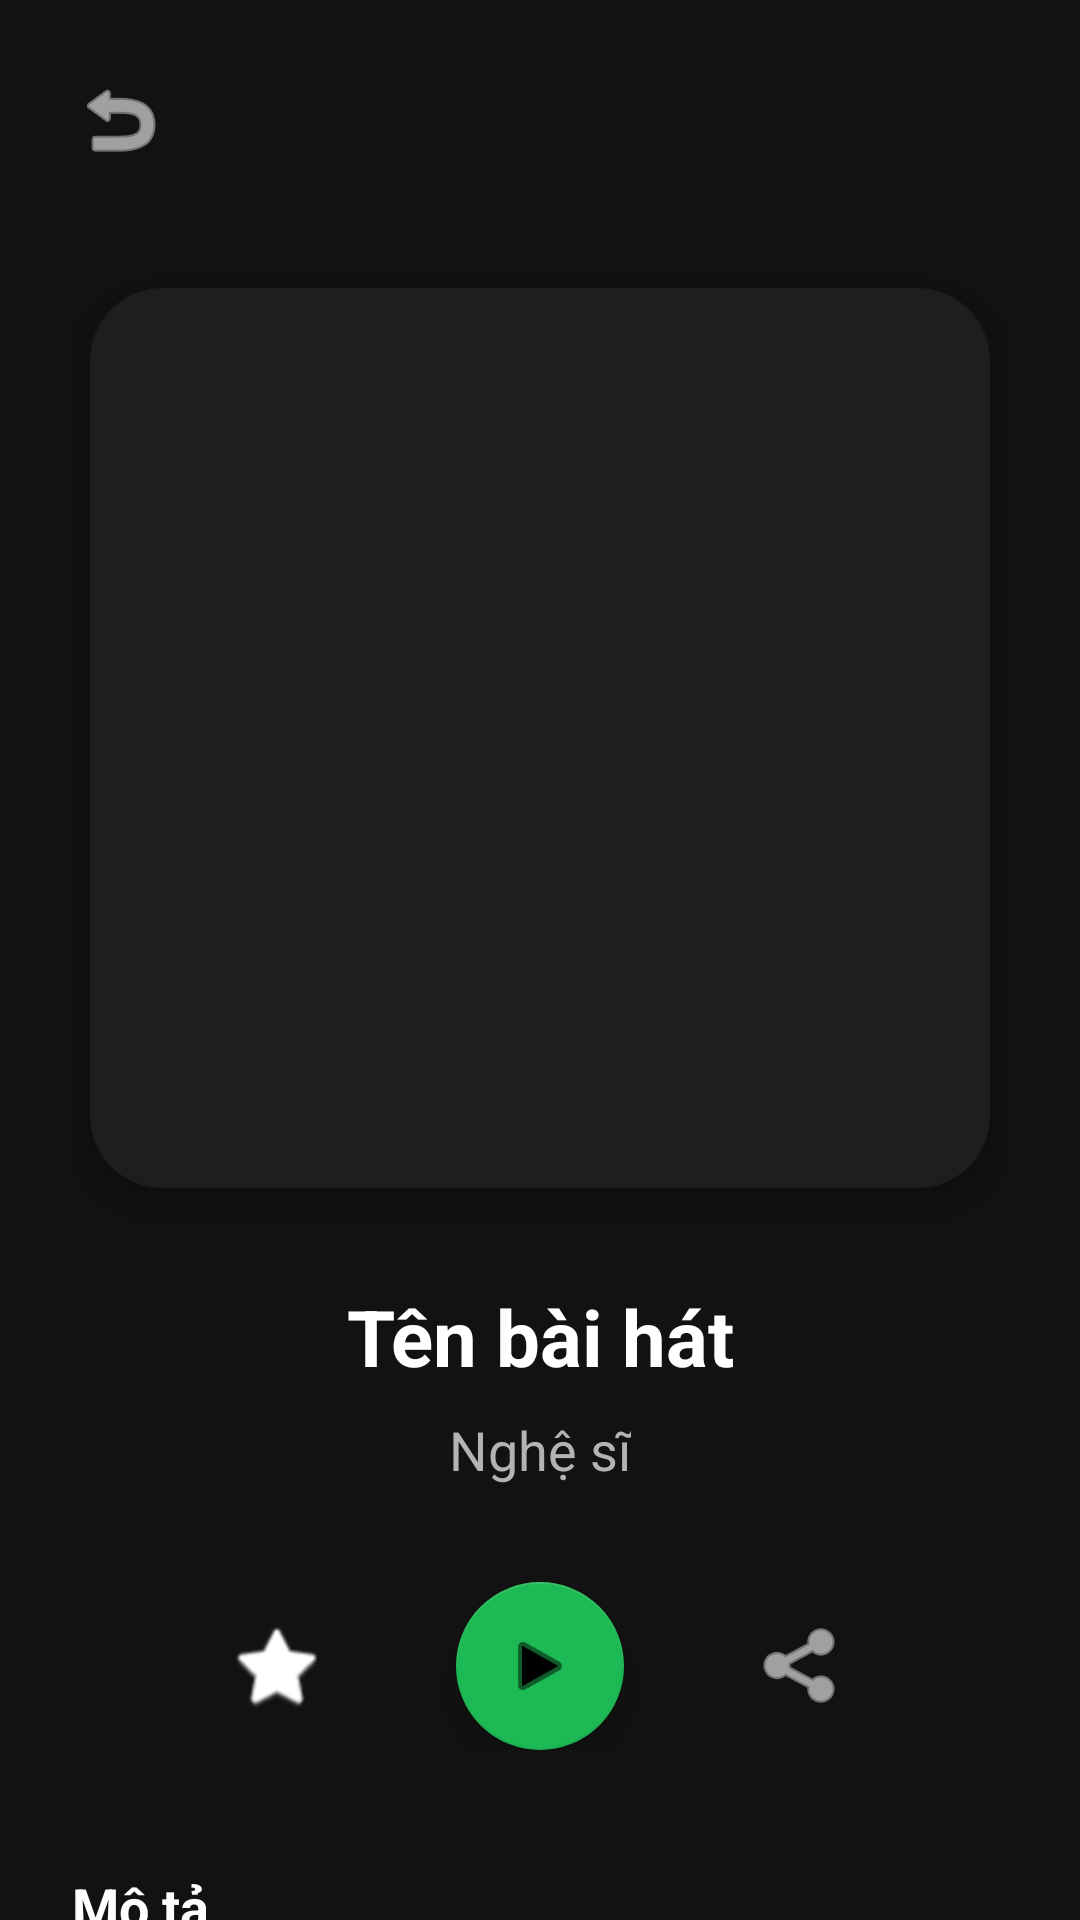

Icon bounding boxes for this 1080px x 1920px phone screenshot, format bbox=[x1, y1, x2, y2]:
play: bbox=[456, 1582, 624, 1750]
revert: bbox=[87, 89, 156, 152]
share: bbox=[763, 1628, 835, 1703]
